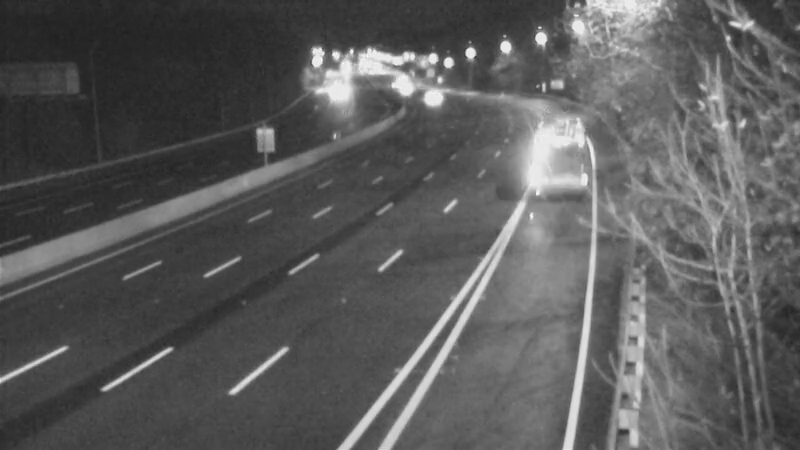vehicle: (404, 71, 454, 121), (527, 113, 577, 163), (306, 67, 356, 117)
